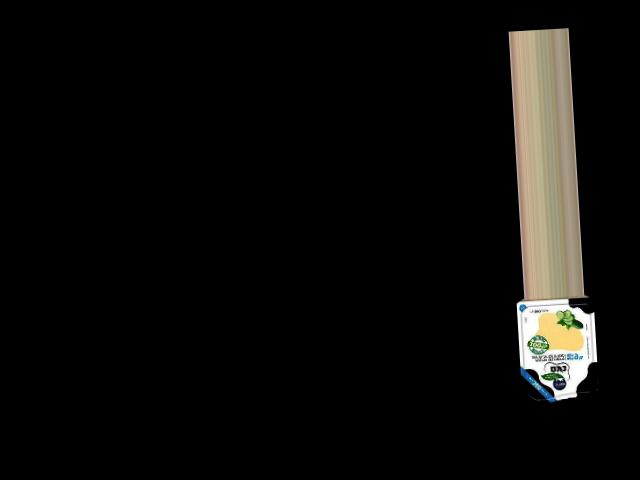cheese: (511, 293, 603, 402)
